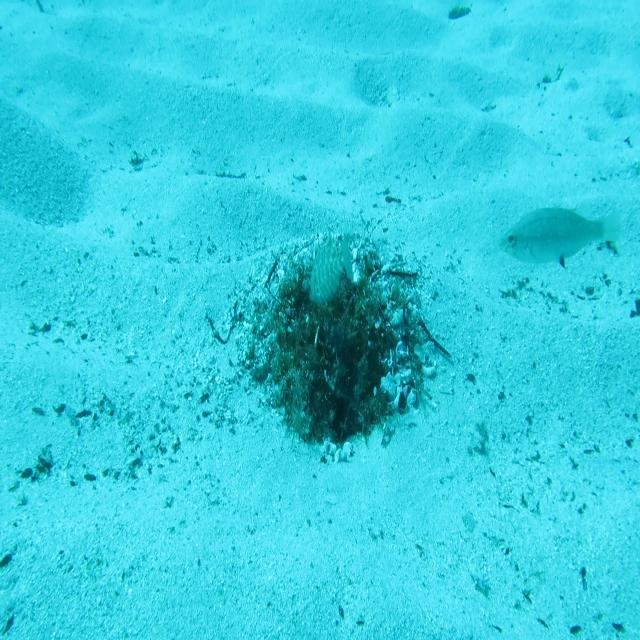NIP_CORE: (306, 228, 355, 311)
core_nest: (304, 287, 354, 316)
female: (496, 199, 624, 269)
nest: (220, 223, 440, 469)
vegetation: (447, 3, 472, 21)
